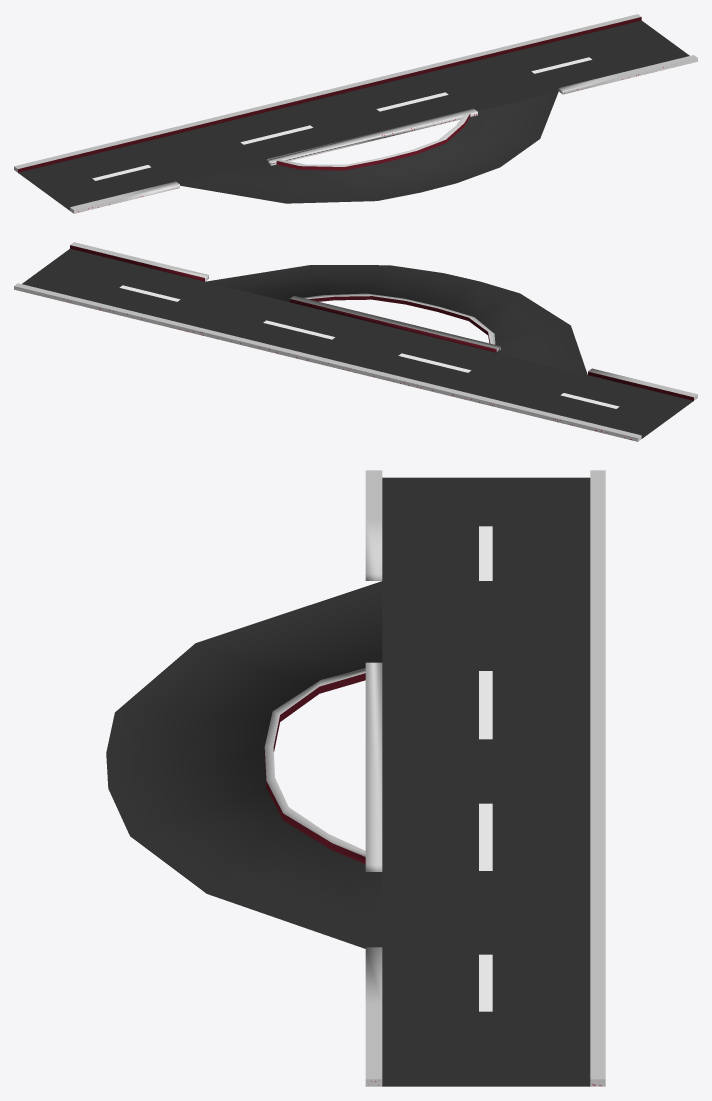
The model's file is Road_Casino.fbx.
3 views of the same model, one above another, from view 1: azimuth 30°, elevation 25°; view 2: azimuth 150°, elevation 25°; view 3: azimuth 270°, elevation 25° (orthographic). The views are drawn at different scales.
Parts seen in each view (by area): view 1: Plane.002; view 2: Plane.002; view 3: Plane.002.
Boxes of the visible parts, x1=… form: Plane.002: x1=14, y1=14, x2=697, y2=213; Plane.002: x1=14, y1=242, x2=697, y2=441; Plane.002: x1=106, y1=470, x2=605, y2=1086.
Bounding box in the file's own units: 1200 × 6.71 × 416.
1 material, 1 textured.
